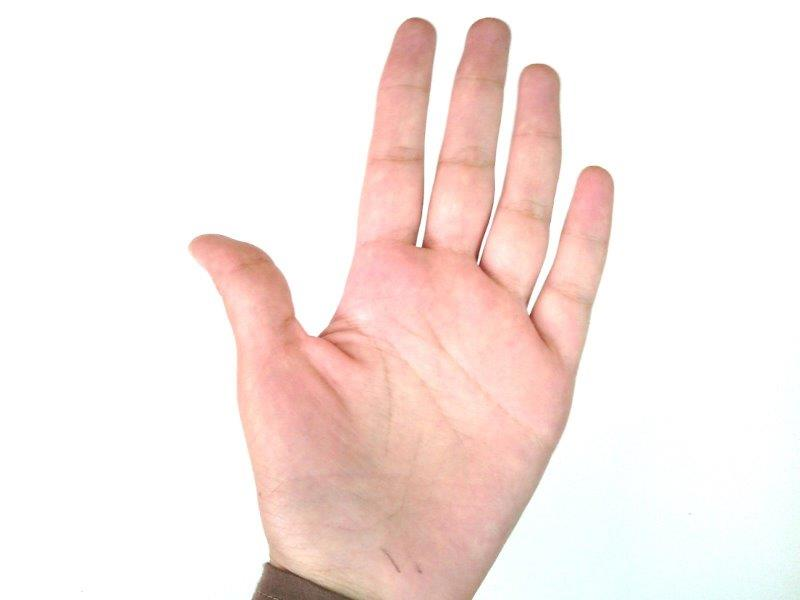hand: (188, 14, 615, 589)
